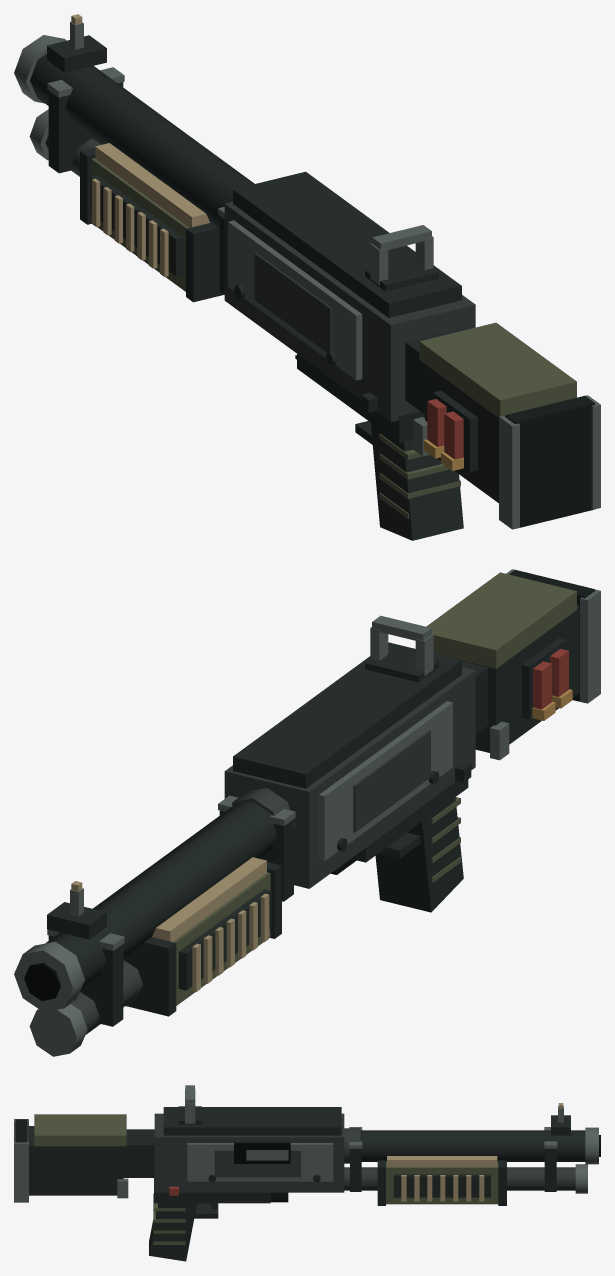
The picture shows the model from 3 angles, top to bottom: view 1: azimuth 30°, elevation 25°; view 2: azimuth 150°, elevation 25°; view 3: azimuth 270°, elevation 25°; orthographic projection. The views are drawn at different scales.
Parts seen in each view (by area): view 1: Merged_material (×9), buttplate, pump underbody; view 2: Merged_material (×10), pump underbody, buttplate; view 3: Merged_material (×9), pump underbody, buttplate.
Boxes of the visible parts, x1,y1,x2,y2 form: Merged_material (×9): (14,21,600,540); buttplate: (505,395,594,528); pump underbody: (91,158,189,291); Merged_material (×10): (14,569,600,1056); pump underbody: (173,872,270,1005); buttplate: (509,569,594,702); Merged_material (×9): (14,1085,600,1261); pump underbody: (386,1161,498,1204); buttplate: (15,1119,27,1142).
Size of the model in its own units: 0.1195 by 0.2751 by 0.904.
